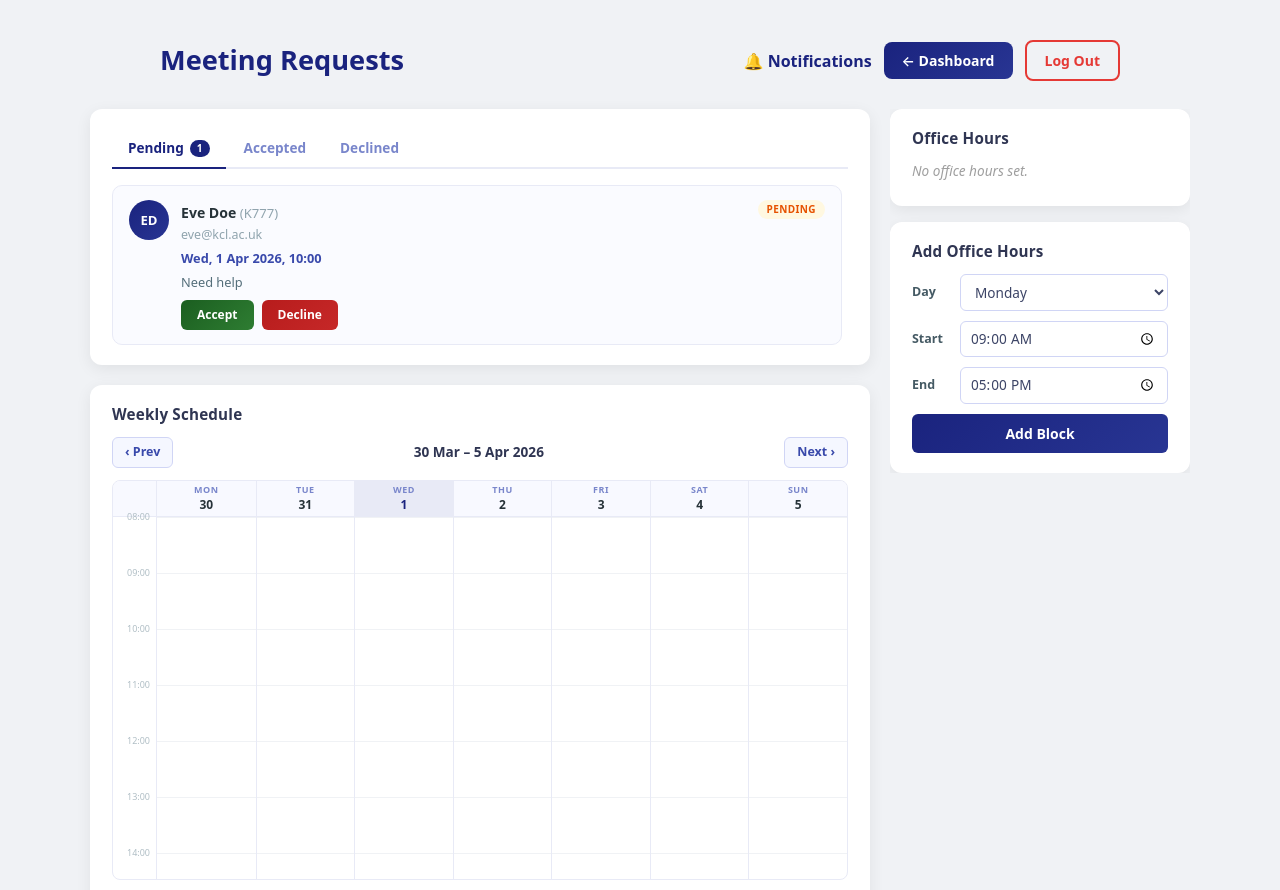
Scenario: StaffMeetingRequestsPage › accept failure rolls back and shows error
The width and height of the screenshot is (1280, 890).
Expected: the text "Eve Doe" is shown, top-left (181, 203), bottom-right (236, 222)
Click the button "Accept": (217,315) top-left (181, 300), bottom-right (254, 330)
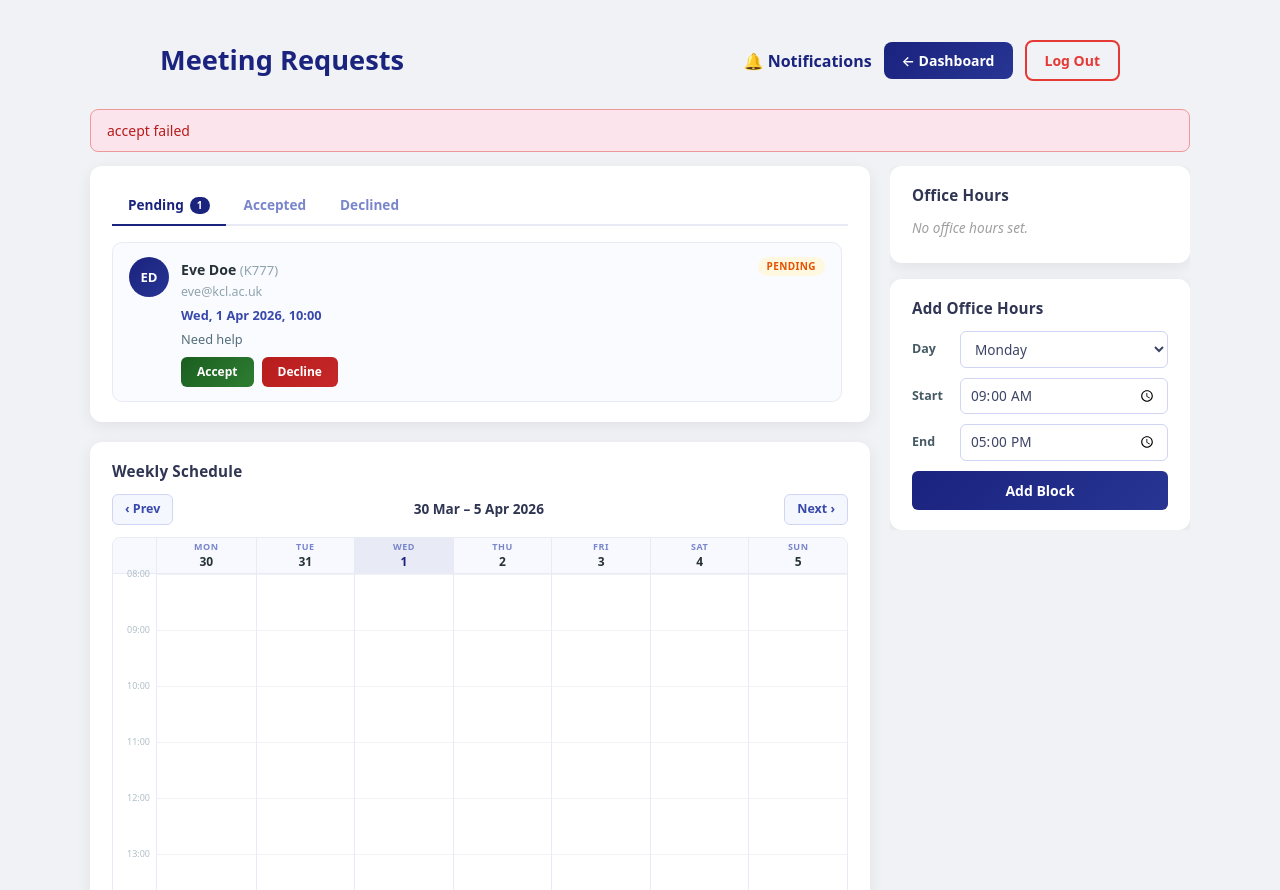
Expected: the text "Eve Doe" is shown, top-left (181, 260), bottom-right (236, 279)
Expected: the text "accept failed" is shown, top-left (90, 109), bottom-right (1190, 152)
